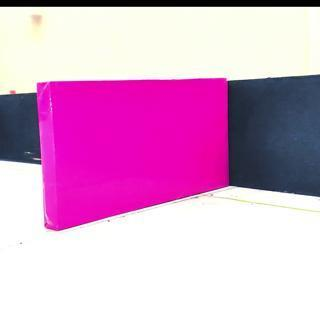xparking: (39, 82, 227, 203)
